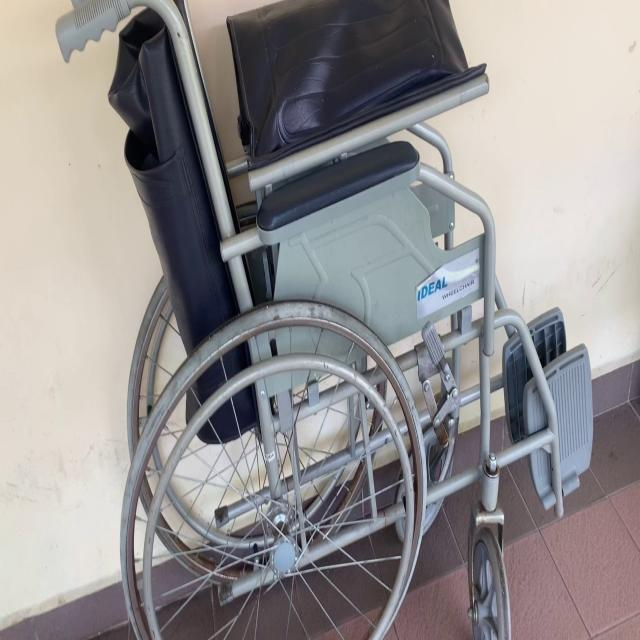wheelchair: (52, 0, 608, 637)
